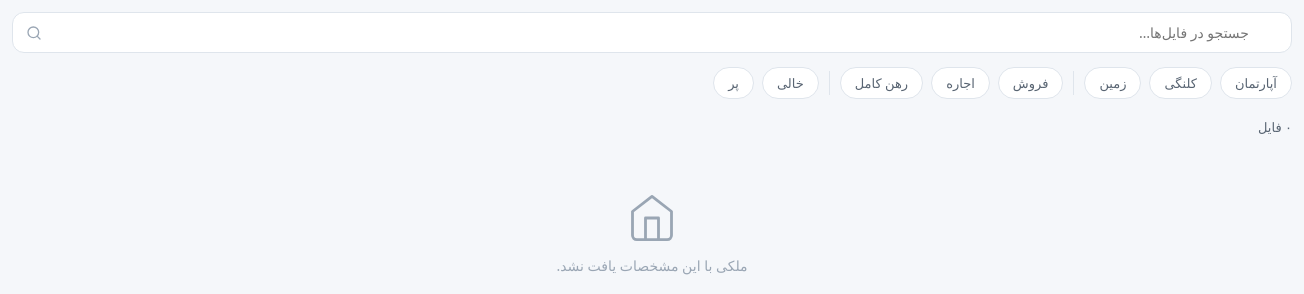
Test: FilesScreen › shows clear button when filter is active
Expected: the text "ملکی با این مشخصات یافت نشد." is shown, [556, 254, 748, 278]
Click the button "کلنگی".
click(1181, 83)  # box [1149, 67, 1212, 99]
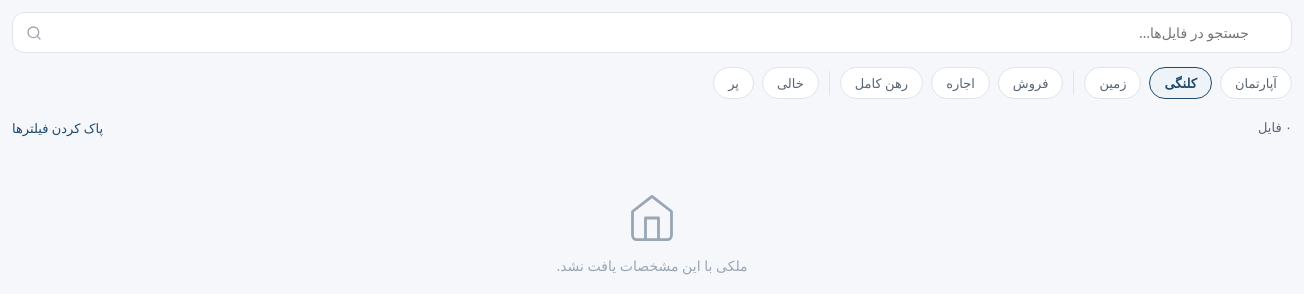
Expected: the button "پاک کردن فیلترها" is shown, [12, 119, 103, 137]
